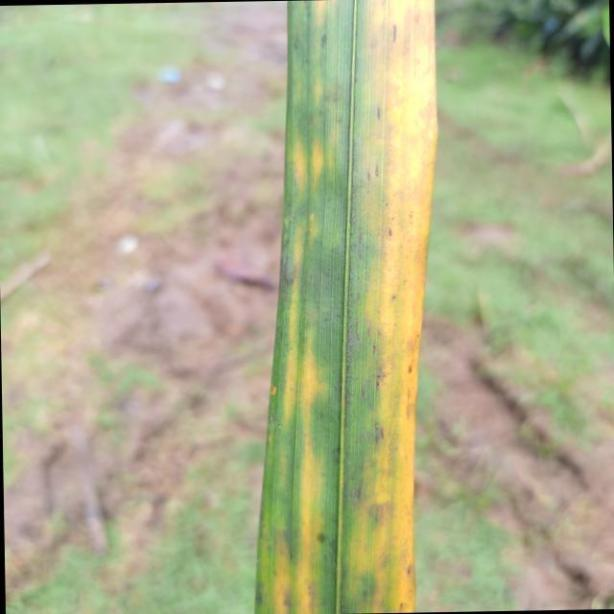Megnesium: (256, 0, 440, 614)
